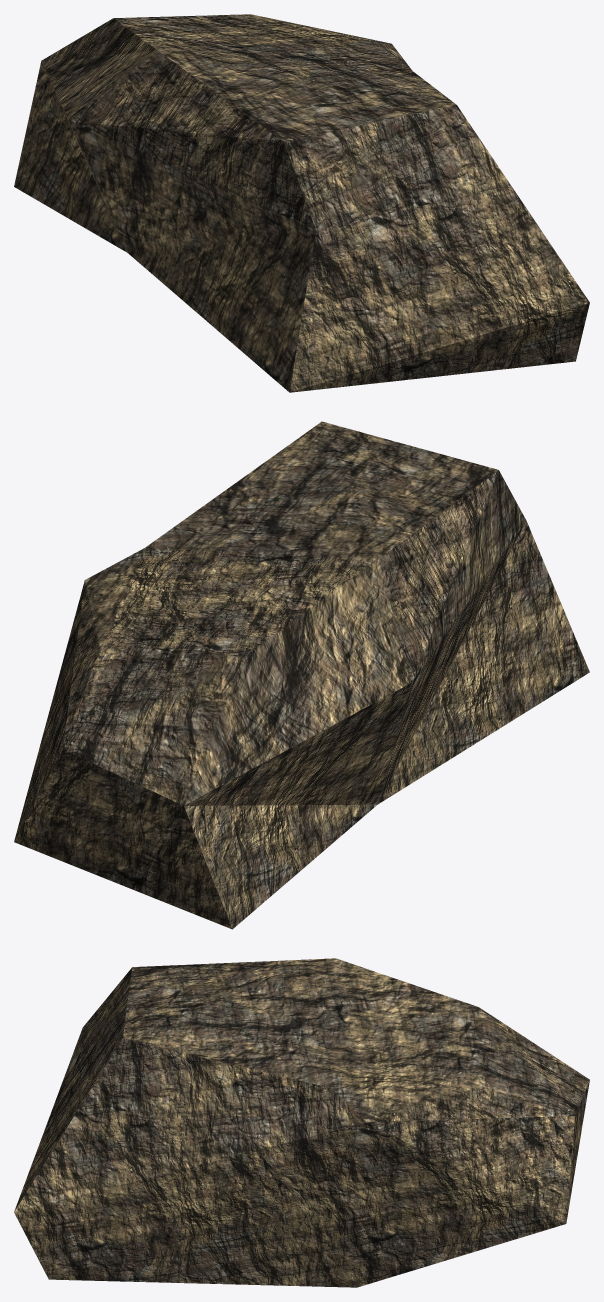
The model's file is big rock 4.obj.
3 renders of one model, top to bottom at view 1: azimuth 30°, elevation 25°; view 2: azimuth 150°, elevation 25°; view 3: azimuth 270°, elevation 25°, orthographic. The views are drawn at different scales.
Visible parts, largest first — view 1: Cube.001; view 2: Cube.001; view 3: Cube.001.
Boxes of the visible parts, <box> form: Cube.001: <box>14,14,589,392</box>; Cube.001: <box>14,421,589,929</box>; Cube.001: <box>14,958,589,1287</box>.
Size of the model in its own units: 2.47 by 2.07 by 4.6.
